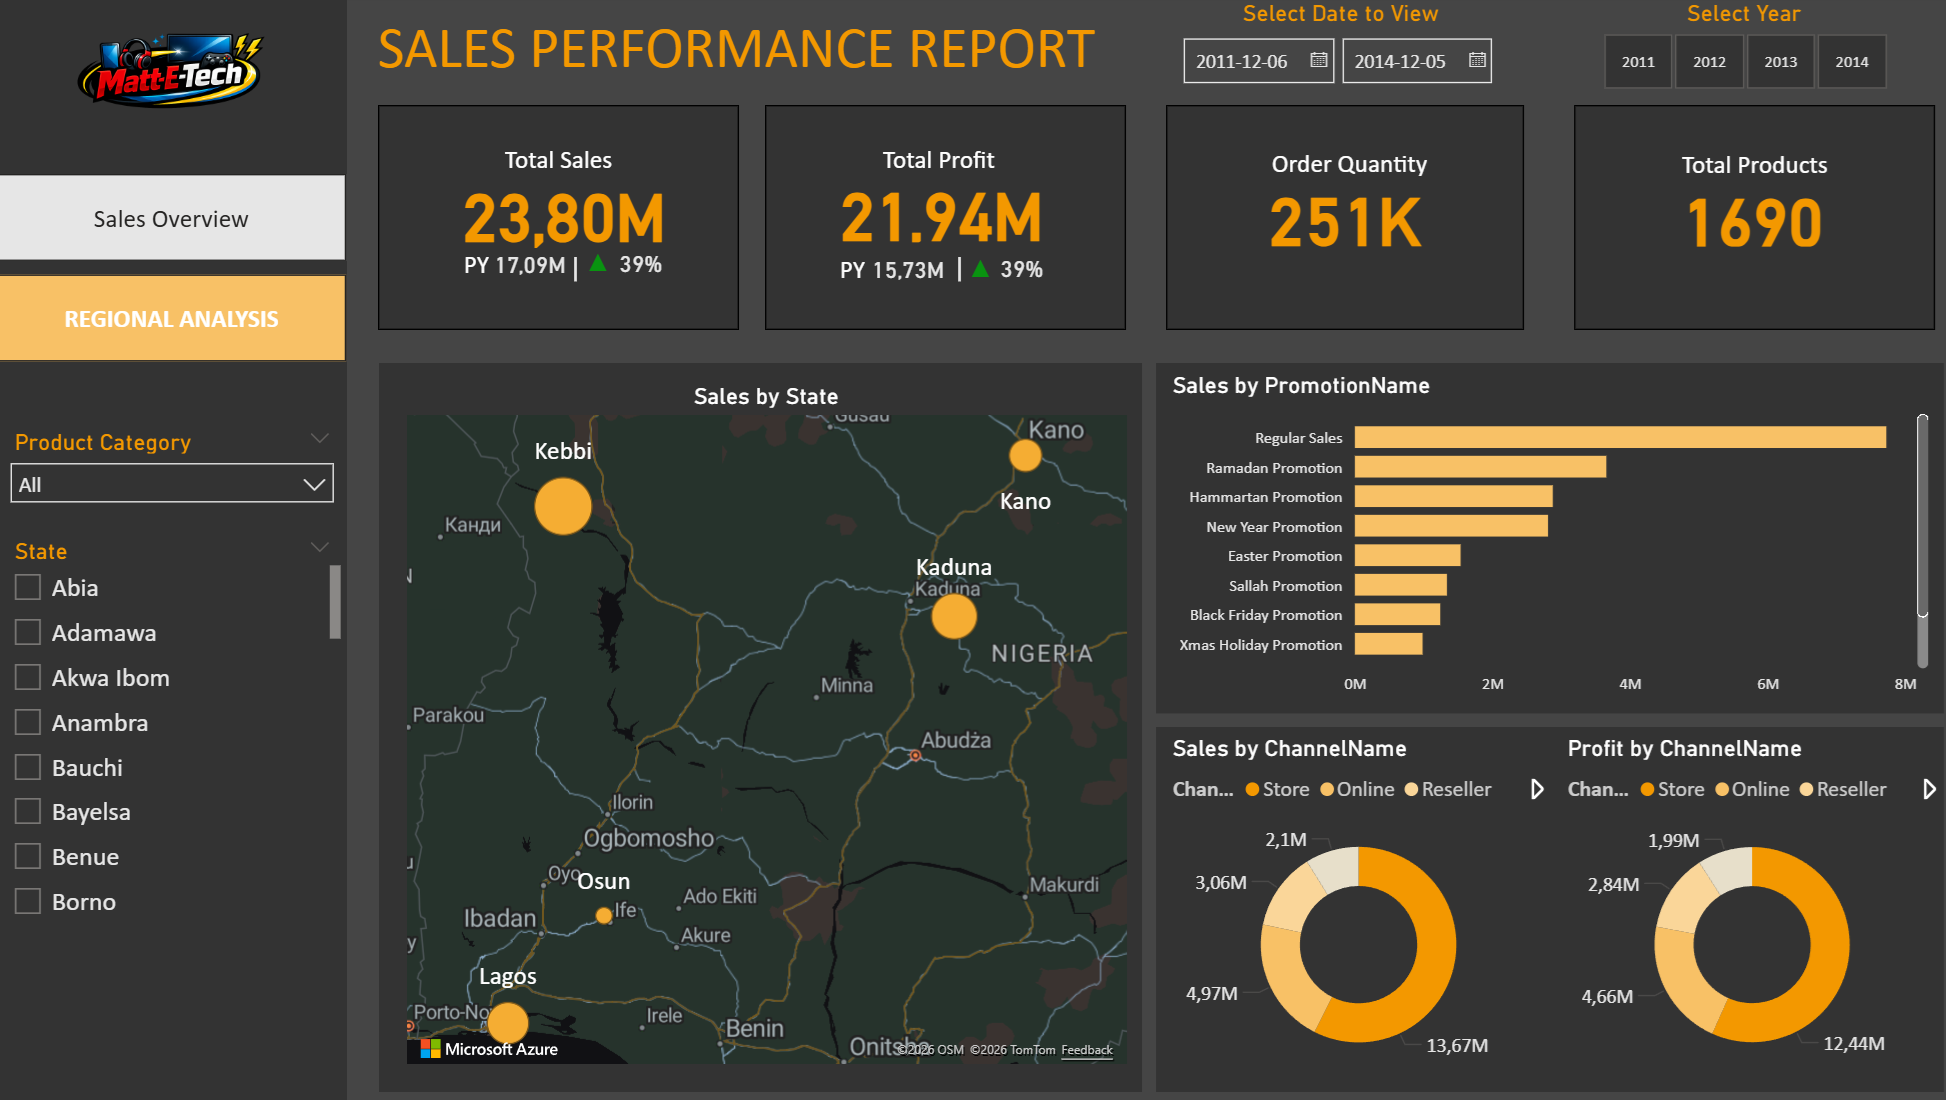

The page's visual inventory and layout, read from the dashboard file:
{"tool":"powerbi","page":{"name":"REGIONAL ANALYSIS","canvas":[1440,840],"ordinal":1},"visuals":[{"type":"shape","box":[0,0,257.7,840],"z":0},{"type":"image","box":[0,0,257.7,131],"z":1000},{"type":"textbox","box":[275.3,6.6,552.9,64.8],"z":2000},{"type":"shape","box":[275.3,80.2,265.8,165.6],"z":3000},{"type":"card","fields":{"Values":["Measures_.Total Sales"]},"box":[308.5,118.5,174.5,83.2],"z":4000},{"type":"textbox","box":[359.7,105.1,111.1,34.4],"z":5000},{"type":"card","fields":{"Values":["Measures_.Sales_YoY%"]},"box":[446.7,185.2,44.4,33],"z":6000},{"type":"card","fields":{"Values":["Measures_.Sales_Icon"]},"box":[422.3,185.2,33,30.8],"z":7000},{"type":"card","fields":{"Values":["Measures_.Sales_LY"]},"box":[357.8,186.7,64.5,31.5],"z":8000},{"type":"textbox","box":[336.3,183.1,33,33],"z":9000},{"type":"shape","box":[413.7,194.6,17.2,15.1],"z":10000},{"type":"shape","box":[565.4,80.2,265.8,165.6],"z":11000},{"type":"card","fields":{"Values":["Measures_.Total Profit"]},"box":[613,120.7,174.2,83.1],"z":12000},{"type":"textbox","box":[602.8,104.6,111.1,34.4],"z":13000},{"type":"card","fields":{"Values":["Measures_.Profit_YoY%"]},"box":[741.3,187.1,45.9,28.7],"z":14000},{"type":"card","fields":{"Values":["Measures_.Profit_Icon"]},"box":[716.9,187.4,33,30.8],"z":15000},{"type":"card","fields":{"Values":["Measures_.Profit_LY"]},"box":[652.4,188.8,64.5,31.5],"z":16000},{"type":"textbox","box":[630.9,185.2,33,33],"z":17000},{"type":"shape","box":[708.3,196.7,17.2,15.1],"z":18000},{"type":"shape","box":[860.6,80.2,266.5,165.6],"z":19000},{"type":"card","fields":{"Values":["Sum(SalesData.Order Qty)"]},"box":[874.4,119.7,174.2,83.1],"z":20000},{"type":"textbox","box":[897.3,104.6,128.3,33.7],"z":21000},{"type":"shape","box":[1161,80.2,265.8,165.6],"z":22000},{"type":"card","fields":{"Values":["CountNonNull(SalesProduct.ProductName)"]},"box":[1188.3,121.8,174.2,83.1],"z":23000},{"type":"textbox","box":[1214.8,104.6,133.3,34.4],"z":24000},{"type":"shape","box":[281.2,270.2,561.7,536.7],"z":25000},{"type":"shape","box":[853.3,270.2,580.1,258.4],"z":26000},{"type":"shape","box":[853.3,538.2,580.1,268.7],"z":27000},{"type":"slicer","title":"Select Date to View","fields":{"Values":["DATES.Date"]},"box":[860.6,2.2,257.7,72.9],"z":28000},{"type":"slicer","title":"Select Year","fields":{"Values":["DATES.Year"]},"box":[1157.3,2.2,257.7,72.9],"z":29000},{"type":"slicer","fields":{"Values":["SalesProductSubCat.Product Category"]},"box":[0,312.9,257.7,78.8],"z":30000},{"type":"slicer","fields":{"Values":["SalesState.State"]},"box":[0,393.1,257.7,289.3],"z":31000},{"type":"pageNavigator","box":[0,131,257.7,139.1],"z":32000},{"type":"azureMap","title":"Sales by State","fields":{"Category":["SalesState.State"],"Size":["Measures_.Total Sales"]},"box":[296.7,284.2,539.6,507.2],"z":33000},{"type":"clusteredBarChart","title":"Sales by PromotionName","fields":{"Category":["SalesPromotion.PromotionName"],"Y":["Measures_.Total Sales"]},"box":[860.6,276.1,566.1,245.9],"z":34000},{"type":"donutChart","title":"Sales by ChannelName","fields":{"Category":["SalesChannel.ChannelName"],"Y":["Measures_.Total Sales"]},"box":[860.6,543.3,283.4,259.1],"z":35000},{"type":"donutChart","title":"Profit by ChannelName","fields":{"Category":["SalesChannel.ChannelName"],"Y":["Measures_.Total Profit"]},"box":[1152.1,543.3,281.2,259.1],"z":36000}]}

Visuals, with their boxes on the page's 1440x840 design canvas (x1, y1, x2, y2). These are canvas units, not pixel positions in the 1946x1100 screenshot, which may show the page scaled, cropped or inside an application window:
shape: {"x1": 0, "y1": 0, "x2": 258, "y2": 840}
image: {"x1": 0, "y1": 0, "x2": 258, "y2": 131}
textbox: {"x1": 275, "y1": 7, "x2": 828, "y2": 71}
shape: {"x1": 275, "y1": 80, "x2": 541, "y2": 246}
card - Measures_.Total Sales: {"x1": 308, "y1": 118, "x2": 483, "y2": 202}
textbox: {"x1": 360, "y1": 105, "x2": 471, "y2": 140}
card - Measures_.Sales_YoY%: {"x1": 447, "y1": 185, "x2": 491, "y2": 218}
card - Measures_.Sales_Icon: {"x1": 422, "y1": 185, "x2": 455, "y2": 216}
card - Measures_.Sales_LY: {"x1": 358, "y1": 187, "x2": 422, "y2": 218}
textbox: {"x1": 336, "y1": 183, "x2": 369, "y2": 216}
shape: {"x1": 414, "y1": 195, "x2": 431, "y2": 210}
shape: {"x1": 565, "y1": 80, "x2": 831, "y2": 246}
card - Measures_.Total Profit: {"x1": 613, "y1": 121, "x2": 787, "y2": 204}
textbox: {"x1": 603, "y1": 105, "x2": 714, "y2": 139}
card - Measures_.Profit_YoY%: {"x1": 741, "y1": 187, "x2": 787, "y2": 216}
card - Measures_.Profit_Icon: {"x1": 717, "y1": 187, "x2": 750, "y2": 218}
card - Measures_.Profit_LY: {"x1": 652, "y1": 189, "x2": 717, "y2": 220}
textbox: {"x1": 631, "y1": 185, "x2": 664, "y2": 218}
shape: {"x1": 708, "y1": 197, "x2": 726, "y2": 212}
shape: {"x1": 861, "y1": 80, "x2": 1127, "y2": 246}
card - Sum(SalesData.Order Qty): {"x1": 874, "y1": 120, "x2": 1049, "y2": 203}
textbox: {"x1": 897, "y1": 105, "x2": 1026, "y2": 138}
shape: {"x1": 1161, "y1": 80, "x2": 1427, "y2": 246}
card - CountNonNull(SalesProduct.ProductName): {"x1": 1188, "y1": 122, "x2": 1362, "y2": 205}
textbox: {"x1": 1215, "y1": 105, "x2": 1348, "y2": 139}
shape: {"x1": 281, "y1": 270, "x2": 843, "y2": 807}
shape: {"x1": 853, "y1": 270, "x2": 1433, "y2": 529}
shape: {"x1": 853, "y1": 538, "x2": 1433, "y2": 807}
"Select Date to View" slicer: {"x1": 861, "y1": 2, "x2": 1118, "y2": 75}
"Select Year" slicer: {"x1": 1157, "y1": 2, "x2": 1415, "y2": 75}
slicer - SalesProductSubCat.Product Category: {"x1": 0, "y1": 313, "x2": 258, "y2": 392}
slicer - SalesState.State: {"x1": 0, "y1": 393, "x2": 258, "y2": 682}
pageNavigator: {"x1": 0, "y1": 131, "x2": 258, "y2": 270}
"Sales by State" azureMap: {"x1": 297, "y1": 284, "x2": 836, "y2": 791}
"Sales by PromotionName" clusteredBarChart: {"x1": 861, "y1": 276, "x2": 1427, "y2": 522}
"Sales by ChannelName" donutChart: {"x1": 861, "y1": 543, "x2": 1144, "y2": 802}
"Profit by ChannelName" donutChart: {"x1": 1152, "y1": 543, "x2": 1433, "y2": 802}
